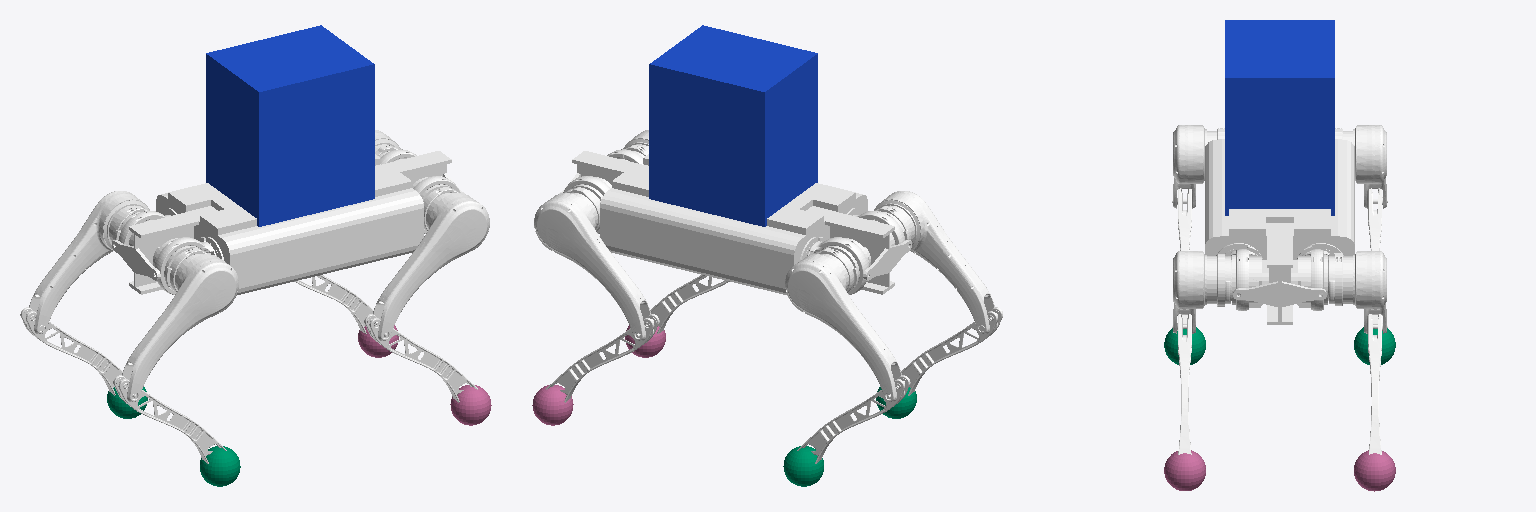
robot.urdf — chitu_max:
<?xml version="1.0" encoding="utf-8"?>
<!-- Chitu URDF - simplified foot structure (matching A1 pattern: calf → foot_fixed → FOOT) -->
<robot name="chitu_max">
  <link name="base">
    <inertial>
      <origin xyz="0 0.001213 0.001961" rpy="0 0 0" />
      <mass value="48.793" />
      <inertia ixx="0.60683" ixy="0" ixz="0" iyy="2.1429" iyz="-0.00013" izz="2.5199" />
    </inertial>
    <visual>
      <origin xyz="0 0 0" rpy="0 0 0" />
      <geometry>
        <mesh filename="../meshes/base_link.STL" />
      </geometry>
      <material name="">
        <color rgba="1 1 1 1" />
      </material>
    </visual>
    <collision>
      <origin xyz="0 0 0" rpy="0 0 0" />
      <geometry>
        <box size="0.59 0.36 0.18" />
      </geometry>
    </collision>
    <!-- LF hip collision (moved from LF_hip to base) -->
    <collision>
      <origin xyz="0.381 0.15557 0" rpy="1.5707963 0 0" />
      <geometry>
        <cylinder length="0.24" radius="0.06"/>
      </geometry>
    </collision>
    <!-- LH hip collision (moved from LH_hip to base) -->
    <collision>
      <origin xyz="-0.381 0.15557 0" rpy="1.5707963 0 0" />
      <geometry>
        <cylinder length="0.24" radius="0.06"/>
      </geometry>
    </collision>
    <!-- RF hip collision (moved from RF_hip to base) -->
    <collision>
      <origin xyz="0.381 -0.15557 0" rpy="1.5707963 0 0" />
      <geometry>
        <cylinder length="0.24" radius="0.06"/>
      </geometry>
    </collision>
    <!-- RH hip collision (moved from RH_hip to base) -->
    <collision>
      <origin xyz="-0.381 -0.15557 0" rpy="1.5707963 0 0" />
      <geometry>
        <cylinder length="0.24" radius="0.06"/>
      </geometry>
    </collision>
  </link>
  <joint name="base_imu_joint" type="fixed">
    <origin rpy="0. 0. 0." xyz="0. 0. 0."/>
    <parent link="base"/>
    <child link="base_imu"/>
  </joint>
  <link name="base_imu">
    <inertial>
      <mass value="0.01"/>
      <origin rpy="0 0 0" xyz="0 0 0"/>
      <inertia ixx="0.000001" ixy="0" ixz="0" iyy="0.000001" iyz="0" izz="0.000001"/>
    </inertial>
    <visual>
      <origin rpy="0 0 0" xyz="0 0 0"/>
      <geometry>
        <box size="0.015 0.015 0.004"/>
      </geometry>
    </visual>
    <material name="orange">
      <color rgba="255 108 10 255"/>
    </material>
  </link>

  <!-- 机身负重块：标称 35kg，训练时随机质量/质心（见 domain_rand.payload_*）
       dont_collapse：保留独立刚体，便于单独随机质量/质心
       盒子高度 0.40m；底部安装高度保持不变 → 中心 z=0.075+0.20=0.275 -->
  <joint name="payload_fixed" type="fixed" dont_collapse="true">
    <origin xyz="0 0 0.275" rpy="0 0 0"/>
    <parent link="base"/>
    <child link="payload"/>
  </joint>
  <link name="payload">
    <inertial>
      <origin xyz="0 0 0" rpy="0 0 0"/>
      <mass value="35.0"/>
      <!-- 近似 0.35×0.28×0.40 m 均质长方体：I=m/12*(a²+b²) -->
      <inertia ixx="0.695" ixy="0" ixz="0" iyy="0.824" iyz="0" izz="0.586"/>
    </inertial>
    <visual>
      <origin xyz="0 0 0" rpy="0 0 0"/>
      <geometry>
        <box size="0.35 0.28 0.40"/>
      </geometry>
      <material name="payload_blue">
        <color rgba="0.15 0.35 0.85 0.85"/>
      </material>
    </visual>
    <!-- 无 collision：避免误触地/终止；动力学仅靠 inertial -->
  </link>

  <!-- ==================== LF leg ==================== -->
  <link name="LF_hip">
    <inertial>
      <origin xyz="0.077026 -0.012824 -5E-06" rpy="0 0 0" />
      <mass value="3.7016" />
      <inertia ixx="0.006455" ixy="0.000113" ixz="-1E-06" iyy="0.00924" iyz="-1E-06" izz="0.007282" />
    </inertial>
    <visual>
      <origin xyz="0 0 0" rpy="0 0 0" />
      <geometry>
        <mesh filename="../meshes/LFpitch_Link.STL" />
      </geometry>
      <material name="">
        <color rgba="1 1 1 1" />
      </material>
    </visual>
  </link>
  <joint name="LF_HAA_joint" type="revolute">
    <origin xyz="0.301 0.09557 0" rpy="0 0 0" />
    <parent link="base" />
    <child link="LF_hip" />
    <axis xyz="1 0 0" />
    <limit lower="-0.7854" upper="0.7854" effort="280" velocity="9.0" />
  </joint>
  <link name="LF_thigh">
    <inertial>
      <origin xyz="-0.022096 0.074493 -0.017402" rpy="0 0 0" />
      <mass value="5.093" />
      <inertia ixx="0.027606" ixy="0.005177" ixz="-0.016578" iyy="0.045524" iyz="0.00415" izz="0.032386" />
    </inertial>
    <visual>
      <origin xyz="0 0 0" rpy="0 0 0" />
      <geometry>
        <mesh filename="../meshes/LFthigh_Link.STL" />
      </geometry>
      <material name="">
        <color rgba="1 1 1 1" />
      </material>
    </visual>
    <collision>
      <origin xyz="-0.165 0.122 -0.12" rpy="1.570796 0.9 0" />
      <geometry>
        <box size="0.04 0.23 0.04"/>
      </geometry>
    </collision>
  </link>
  <joint name="LF_HFE_joint" type="revolute">
    <origin xyz="0.0795 0.0272 0" rpy="0 0 0" />
    <parent link="LF_hip" />
    <child link="LF_thigh" />
    <axis xyz="0 1 0" />
    <limit lower="-2.618" upper="2.618" effort="280" velocity="9.0" />
  </joint>
  <link name="LF_calf">
    <inertial>
      <origin xyz="0.14378 0.0010131 -0.13544" rpy="0 0 0" />
      <mass value="0.71704" />
      <inertia ixx="0.0107" ixy="-5E-06" ixz="0.01028" iyy="0.021212" iyz="5E-06" izz="0.010706" />
    </inertial>
    <visual>
      <origin xyz="0 0 0" rpy="0 0 0" />
      <geometry>
        <mesh filename="../meshes/LFcalf_Link.STL" />
      </geometry>
      <material name="">
        <color rgba="1 1 1 1" />
      </material>
    </visual>
    <collision>
      <origin xyz="0.08 0.0 -0.06" rpy="0 0.70 0" />
      <geometry>
        <box size="0.26 0.03 0.03"/>
      </geometry>
    </collision>
    <collision>
      <origin xyz="0.206 0 -0.175" rpy="0 0.9 0" />
      <geometry>
        <box size="0.08 0.03 0.03"/>
      </geometry>
    </collision>
  </link>
  <joint name="LF_KFE_joint" type="revolute">
    <origin xyz="-0.24748 0.12015 -0.24752" rpy="0 0 0" />
    <parent link="LF_thigh" />
    <child link="LF_calf" />
    <axis xyz="0 1 0" />
    <limit lower="-1.1345" upper="0.7854" effort="299" velocity="9.0" />
  </joint>
  <joint name="LF_foot_fixed" type="fixed" dont_collapse="true">
    <origin xyz="0.275 0.0 -0.278" rpy="0 0 0"/>
    <parent link="LF_calf"/>
    <child link="LF_foot"/>
  </joint>
  <link name="LF_foot">
    <inertial>
      <origin xyz="0.0 0.0 0.0" rpy="0 0 0" />
      <mass value="0.1" />
      <inertia ixx="3.5e-05" ixy="0" ixz="0" iyy="3.5e-05" iyz="0" izz="3.5e-05" />
    </inertial>
    <visual>
      <origin xyz="0.0 0.0 0.0" rpy="0 0 0" />
      <geometry>
        <sphere radius="0.054" />
      </geometry>
    </visual>
    <collision>
      <origin xyz="0.0 0.0 0.0" rpy="0 0 0" />
      <geometry>
        <sphere radius="0.054" />
      </geometry>
    </collision>
  </link>

  <!-- ==================== LH leg ==================== -->
  <link name="LH_hip">
    <inertial>
      <origin xyz="-0.077026 -0.012824 5E-06" rpy="0 0 0" />
      <mass value="3.7016" />
      <inertia ixx="0.006455" ixy="-0.000113" ixz="-1E-06" iyy="0.00927" iyz="1E-06" izz="0.007282" />
    </inertial>
    <visual>
      <origin xyz="0 0 0" rpy="0 0 0" />
      <geometry>
        <mesh filename="../meshes/LBpitch_Link.STL" />
      </geometry>
      <material name="">
        <color rgba="1 1 1 1" />
      </material>
    </visual>
  </link>
  <joint name="LH_HAA_joint" type="revolute">
    <origin xyz="-0.301 0.09557 0" rpy="0 0 0" />
    <parent link="base" />
    <child link="LH_hip" />
    <axis xyz="1 0 0" />
    <limit lower="-0.7854" upper="0.7854" effort="280" velocity="9.0" />
  </joint>
  <link name="LH_thigh">
    <inertial>
      <origin xyz="-0.022096 0.074493 -0.017402" rpy="0 0 0" />
      <mass value="5.093" />
      <inertia ixx="0.027606" ixy="0.005177" ixz="-0.016578" iyy="0.045524" iyz="0.00415" izz="0.032386" />
    </inertial>
    <visual>
      <origin xyz="0 0 0" rpy="0 0 0" />
      <geometry>
        <mesh filename="../meshes/LBthigh_Link.STL" />
      </geometry>
      <material name="">
        <color rgba="1 1 1 1" />
      </material>
    </visual>
    <collision>
      <origin xyz="-0.165 0.122 -0.12" rpy="1.570796 0.9 0" />
      <geometry>
        <box size="0.04 0.23 0.04" />
      </geometry>
    </collision>
  </link>
  <joint name="LH_HFE_joint" type="revolute">
    <origin xyz="-0.0795 0.0272 0" rpy="0 0 0" />
    <parent link="LH_hip" />
    <child link="LH_thigh" />
    <axis xyz="0 1 0" />
    <limit lower="-2.618" upper="2.618" effort="280" velocity="9.0" />
  </joint>
  <link name="LH_calf">
    <inertial>
      <origin xyz="0.14378 0.0012631 -0.13544" rpy="0 0 0" />
      <mass value="0.71704" />
      <inertia ixx="0.0107" ixy="-5E-06" ixz="0.01028" iyy="0.021212" iyz="5E-06" izz="0.010706" />
    </inertial>
    <visual>
      <origin xyz="0 0 0" rpy="0 0 0" />
      <geometry>
        <mesh filename="../meshes/LBcalf_Link.STL" />
      </geometry>
      <material name="">
        <color rgba="1 1 1 1" />
      </material>
    </visual>
    <collision>
      <origin xyz="0.08 0.0 -0.06" rpy="0 0.70 0" />
      <geometry>
        <box size="0.26 0.03 0.03"/>
      </geometry>
    </collision>
    <collision>
      <origin xyz="0.206 0 -0.175" rpy="0 0.9 0" />
      <geometry>
        <box size="0.08 0.03 0.03"/>
      </geometry>
    </collision>
  </link>
  <joint name="LH_KFE_joint" type="revolute">
    <origin xyz="-0.24748 0.12015 -0.24752" rpy="0 0 0" />
    <parent link="LH_thigh" />
    <child link="LH_calf" />
    <axis xyz="0 1 0" />
    <limit lower="-1.1345" upper="0.7854" effort="299" velocity="9.0" />
  </joint>
  <joint name="LH_foot_fixed" type="fixed" dont_collapse="true">
    <origin xyz="0.275 0.0 -0.278" rpy="0 0 0"/>
    <parent link="LH_calf"/>
    <child link="LH_foot"/>
  </joint>
  <link name="LH_foot">
    <inertial>
      <origin xyz="0.0 0.0 0.0" rpy="0 0 0" />
      <mass value="0.1" />
      <inertia ixx="3.5e-05" ixy="0" ixz="0" iyy="3.5e-05" iyz="0" izz="3.5e-05" />
    </inertial>
    <visual>
      <origin xyz="0.0 0.0 0.0" rpy="0 0 0" />
      <geometry>
        <sphere radius="0.054" />
      </geometry>
    </visual>
    <collision>
      <origin xyz="0.0 0.0 0.0" rpy="0 0 0" />
      <geometry>
        <sphere radius="0.054" />
      </geometry>
    </collision>
  </link>

  <!-- ==================== RF leg ==================== -->
  <link name="RF_hip">
    <inertial>
      <origin xyz="0.077026 0.012824 5E-06" rpy="0 0 0" />
      <mass value="3.7016" />
      <inertia ixx="0.006455" ixy="-0.000113" ixz="1E-06" iyy="0.00924" iyz="-1E-06" izz="0.007282" />
    </inertial>
    <visual>
      <origin xyz="0 0 0" rpy="0 0 0" />
      <geometry>
        <mesh filename="../meshes/RFpitch_Link.STL" />
      </geometry>
      <material name="">
        <color rgba="1 1 1 1" />
      </material>
    </visual>
  </link>
  <joint name="RF_HAA_joint" type="revolute">
    <origin xyz="0.301 -0.09557 0" rpy="0 0 0" />
    <parent link="base" />
    <child link="RF_hip" />
    <axis xyz="1 0 0" />
    <limit lower="-0.7854" upper="0.7854" effort="280" velocity="9.0" />
  </joint>
  <link name="RF_thigh">
    <inertial>
      <origin xyz="-0.022096 -0.074493 -0.017402" rpy="0 0 0" />
      <mass value="5.093" />
      <inertia ixx="0.027606" ixy="-0.005177" ixz="-0.016578" iyy="0.045524" iyz="-0.00415" izz="0.032386" />
    </inertial>
    <visual>
      <origin xyz="0 0 0" rpy="0 0 0" />
      <geometry>
        <mesh filename="../meshes/RFthigh_Link.STL" />
      </geometry>
      <material name="">
        <color rgba="1 1 1 1" />
      </material>
    </visual>
    <collision>
      <origin xyz="-0.165 -0.122 -0.12" rpy="1.570796 0.9 0" />
      <geometry>
        <box size="0.04 0.23 0.04"/>
      </geometry>
    </collision>
  </link>
  <joint name="RF_HFE_joint" type="revolute">
    <origin xyz="0.0795 -0.0272 0" rpy="0 0 0" />
    <parent link="RF_hip" />
    <child link="RF_thigh" />
    <axis xyz="0 1 0" />
    <limit lower="-2.618" upper="2.618" effort="280" velocity="9.0" />
  </joint>
  <link name="RF_calf">
    <inertial>
      <origin xyz="0.14378 -0.000845 -0.13544" rpy="0 0 0" />
      <mass value="0.71704" />
      <inertia ixx="0.0107" ixy="-5E-06" ixz="0.01028" iyy="0.021212" iyz="5E-06" izz="0.010706" />
    </inertial>
    <visual>
      <origin xyz="0 0 0" rpy="0 0 0" />
      <geometry>
        <mesh filename="../meshes/RFcalf_Link.STL" />
      </geometry>
      <material name="">
        <color rgba="1 1 1 1" />
      </material>
    </visual>
    <collision>
      <origin xyz="0.08 0.0 -0.06" rpy="0 0.70 0" />
      <geometry>
        <box size="0.26 0.03 0.03"/>
      </geometry>
    </collision>
    <collision>
      <origin xyz="0.206 0 -0.175" rpy="0 0.9 0" />
      <geometry>
        <box size="0.08 0.03 0.03"/>
      </geometry>
    </collision>
  </link>
  <joint name="RF_KFE_joint" type="revolute">
    <origin xyz="-0.2475 -0.12015 -0.2475" rpy="0 0 0" />
    <parent link="RF_thigh" />
    <child link="RF_calf" />
    <axis xyz="0 1 0" />
    <limit lower="-1.1345" upper="0.7854" effort="299" velocity="9.0" />
  </joint>
  <joint name="RF_foot_fixed" type="fixed" dont_collapse="true">
    <origin xyz="0.275 0.0 -0.278" rpy="0 0 0"/>
    <parent link="RF_calf"/>
    <child link="RF_foot"/>
  </joint>
  <link name="RF_foot">
    <inertial>
      <origin xyz="0.0 0.0 0.0" rpy="0 0 0" />
      <mass value="0.1" />
      <inertia ixx="3.5e-05" ixy="0" ixz="0" iyy="3.5e-05" iyz="0" izz="3.5e-05" />
    </inertial>
    <visual>
      <origin xyz="0.0 0.0 0.0" rpy="0 0 0" />
      <geometry>
        <sphere radius="0.054" />
      </geometry>
    </visual>
    <collision>
      <origin xyz="0.0 0.0 0.0" rpy="0 0 0" />
      <geometry>
        <sphere radius="0.054" />
      </geometry>
    </collision>
  </link>

  <!-- ==================== RH leg ==================== -->
  <link name="RH_hip">
    <inertial>
      <origin xyz="-0.077026 0.012824 -5E-05" rpy="0 0 0" />
      <mass value="3.7016" />
      <inertia ixx="0.006455" ixy="0.000113" ixz="1E-06" iyy="0.00924" iyz="1E-06" izz="0.007282" />
    </inertial>
    <visual>
      <origin xyz="0 0 0" rpy="0 0 0" />
      <geometry>
        <mesh filename="../meshes/RBpitch_Link.STL" />
      </geometry>
      <material name="">
        <color rgba="1 1 1 1" />
      </material>
    </visual>
  </link>
  <joint name="RH_HAA_joint" type="revolute">
    <origin xyz="-0.301 -0.09557 0" rpy="0 0 0" />
    <parent link="base" />
    <child link="RH_hip" />
    <axis xyz="1 0 0" />
    <limit lower="-0.7854" upper="0.7854" effort="280" velocity="9.0" />
  </joint>
  <link name="RH_thigh">
    <inertial>
      <origin xyz="-0.022096 -0.074493 -0.017402" rpy="0 0 0" />
      <mass value="5.093" />
      <inertia ixx="0.027606" ixy="-0.005177" ixz="-0.016578" iyy="0.045524" iyz="-0.00415" izz="0.032386" />
    </inertial>
    <visual>
      <origin xyz="0 0 0" rpy="0 0 0" />
      <geometry>
        <mesh filename="../meshes/RBthigh_Link.STL" />
      </geometry>
      <material name="">
        <color rgba="1 1 1 1" />
      </material>
    </visual>
    <collision>
      <origin xyz="-0.165 -0.122 -0.12" rpy="1.570796 0.9 0" />
      <geometry>
        <box size="0.04 0.23 0.04" />
      </geometry>
    </collision>
  </link>
  <joint name="RH_HFE_joint" type="revolute">
    <origin xyz="-0.0795 -0.0272 0" rpy="0 0 0" />
    <parent link="RH_hip" />
    <child link="RH_thigh" />
    <axis xyz="0 1 0" />
    <limit lower="-2.618" upper="2.618" effort="280" velocity="9.0" />
  </joint>
  <link name="RH_calf">
    <inertial>
      <origin xyz="0.14378 -0.000845 -0.13544" rpy="0 0 0" />
      <mass value="0.71704" />
      <inertia ixx="0.0107" ixy="-5E-06" ixz="0.01028" iyy="0.021212" iyz="5E-06" izz="0.010706" />
    </inertial>
    <visual>
      <origin xyz="0 0 0" rpy="0 0 0" />
      <geometry>
        <mesh filename="../meshes/RBcalf_Link.STL" />
      </geometry>
      <material name="">
        <color rgba="1 1 1 1" />
      </material>
    </visual>
    <collision>
      <origin xyz="0.08 0.0 -0.06" rpy="0 0.70 0" />
      <geometry>
        <box size="0.26 0.03 0.03"/>
      </geometry>
    </collision>
    <collision>
      <origin xyz="0.206 0 -0.175" rpy="0 0.9 0" />
      <geometry>
        <box size="0.08 0.03 0.03"/>
      </geometry>
    </collision>
  </link>
  <joint name="RH_KFE_joint" type="revolute">
    <origin xyz="-0.24748 -0.12015 -0.24752" rpy="0 0 0" />
    <parent link="RH_thigh" />
    <child link="RH_calf" />
    <axis xyz="0 1 0" />
    <limit lower="-1.1345" upper="0.7854" effort="299" velocity="9.0" />
  </joint>
  <joint name="RH_foot_fixed" type="fixed" dont_collapse="true">
    <origin xyz="0.275 0.0 -0.278" rpy="0 0 0"/>
    <parent link="RH_calf"/>
    <child link="RH_foot"/>
  </joint>
  <link name="RH_foot">
    <inertial>
      <origin xyz="0.0 0.0 0.0" rpy="0 0 0" />
      <mass value="0.1" />
      <inertia ixx="3.5e-05" ixy="0" ixz="0" iyy="3.5e-05" iyz="0" izz="3.5e-05" />
    </inertial>
    <visual>
      <origin xyz="0.0 0.0 0.0" rpy="0 0 0" />
      <geometry>
        <sphere radius="0.054" />
      </geometry>
    </visual>
    <collision>
      <origin xyz="0.0 0.0 0.0" rpy="0 0 0" />
      <geometry>
        <sphere radius="0.054" />
      </geometry>
    </collision>
  </link>
</robot>

--- Render facts (derived) ---
The picture shows the robot from 3 angles, left to right: view 1: azimuth 30°, elevation 25°; view 2: azimuth 150°, elevation 25°; view 3: azimuth 270°, elevation 25°; orthographic projection.
Model chitu_max with 19 links and 18 joints (12 revolute, 6 fixed), rooted at base, posed every joint at zero.
Links seen in each view (by area): view 1: payload, base, RH_thigh, RF_thigh, LH_thigh, RH_calf, RF_calf, LH_calf, RH_foot, RF_foot, RH_hip, LF_calf (+4 smaller); view 2: payload, base, LH_thigh, LF_thigh, RH_thigh, LF_calf, LH_calf, RH_calf, LH_foot, LF_foot, LH_hip, RF_calf (+4 smaller); view 3: payload, base, LF_thigh, RF_thigh, LH_thigh, RH_thigh, RF_hip, LF_hip, RF_calf, LF_calf, LF_foot, RF_foot (+4 smaller).
Boxes of the visible links, <box> form: payload: <box>206,25,374,226</box>; base: <box>112,151,464,294</box>; RH_thigh: <box>122,248,238,401</box>; RF_thigh: <box>373,187,489,340</box>; LH_thigh: <box>29,191,149,333</box>; RH_calf: <box>113,375,226,463</box>; RF_calf: <box>364,314,477,402</box>; LH_calf: <box>20,307,122,395</box>; RH_foot: <box>200,446,240,486</box>; RF_foot: <box>450,385,491,425</box>; RH_hip: <box>153,237,216,294</box>; LF_calf: <box>294,275,373,333</box>; payload: <box>649,25,817,226</box>; base: <box>559,151,911,294</box>; LH_thigh: <box>785,248,901,401</box>; LF_thigh: <box>534,187,650,340</box>; RH_thigh: <box>874,191,994,333</box>; LF_calf: <box>546,314,659,402</box>; LH_calf: <box>797,375,910,463</box>; RH_calf: <box>901,307,1002,395</box>; LH_foot: <box>783,446,823,486</box>; LF_foot: <box>532,385,573,425</box>; LH_hip: <box>807,237,870,294</box>; RF_calf: <box>650,275,729,333</box>; payload: <box>1225,20,1334,215</box>; base: <box>1205,139,1354,324</box>; LF_thigh: <box>1328,251,1387,333</box>; RF_thigh: <box>1172,251,1231,333</box>; LH_thigh: <box>1335,125,1387,208</box>; RH_thigh: <box>1172,125,1224,208</box>; RF_hip: <box>1228,246,1268,310</box>; LF_hip: <box>1291,246,1331,310</box>; RF_calf: <box>1177,314,1191,454</box>; LF_calf: <box>1368,314,1382,454</box>; LF_foot: <box>1354,450,1395,491</box>; RF_foot: <box>1164,450,1205,490</box>.
Size in the robot's own frame: 1.14 by 0.5938 by 1.05 metres.
13 mesh visuals loaded from 13 distinct referenced files (13 binary STL).
